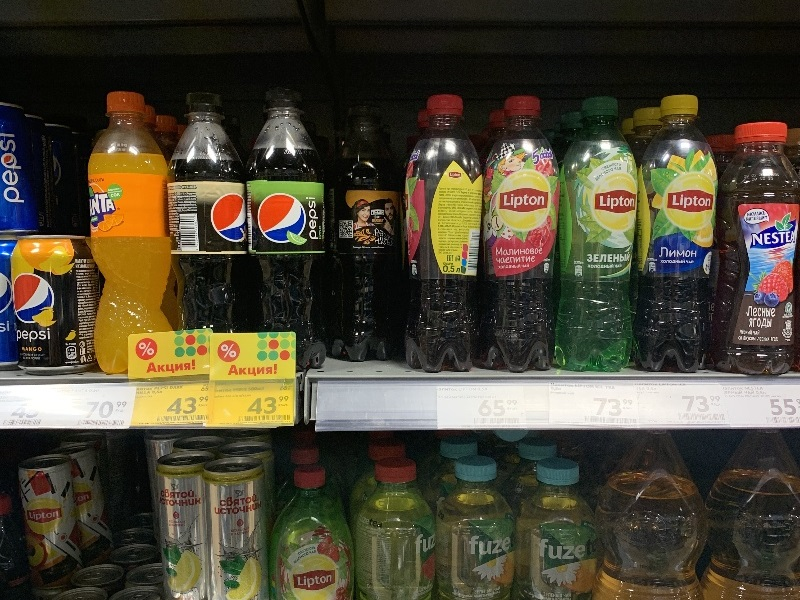lemonade: (80, 87, 180, 387), (244, 85, 336, 381), (482, 95, 571, 379), (405, 88, 488, 379), (639, 91, 723, 377), (557, 93, 640, 377), (322, 101, 409, 368), (167, 91, 249, 335)
